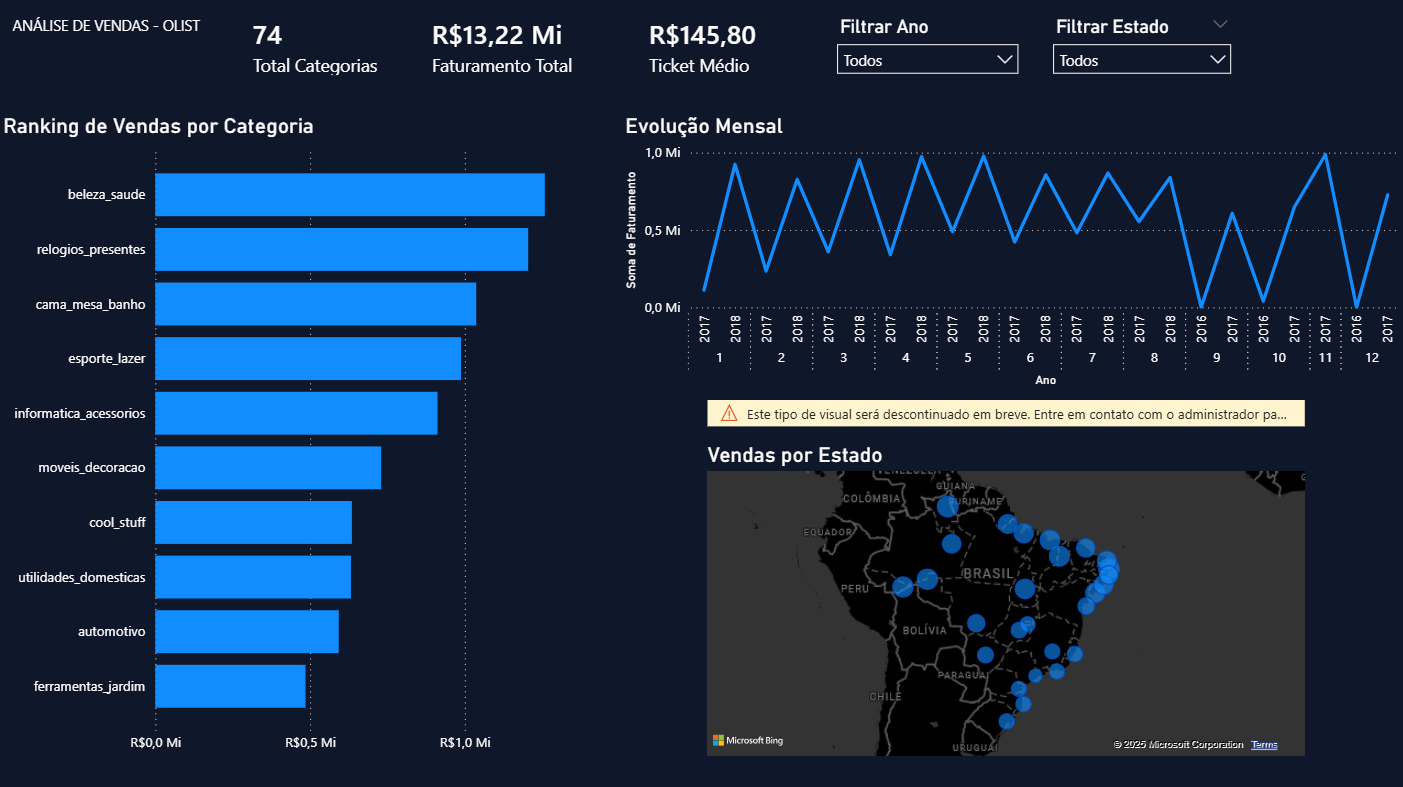

The dashboard page shown, as its layout file describes it:
{"tool":"powerbi","page":{"name":"Página 1","canvas":[1280,720],"ordinal":0},"visuals":[{"type":"clusteredBarChart","title":"Ranking de Vendas por Categoria ","fields":{"Category":["vw_Faturamento_Categoria.Categoria"],"Y":["Sum(vw_Faturamento_Categoria.Faturamento_Total)"]},"box":[0,105.4,565.9,590.2],"z":0},{"type":"lineChart","title":"Evolução Mensal","fields":{"Category":["Faturamento_Anual_Mensal.Mes","Faturamento_Anual_Mensal.Ano"],"Y":["Sum(Faturamento_Anual_Mensal.Faturamento)"]},"box":[565.9,105.4,714.1,253.7],"z":1000},{"type":"map","title":"Vendas por Estado","fields":{"Size":["Sum(vw_Media_Frete_Estado.Média)"],"Category":["vw_Media_Frete_Estado.Localizacao"]},"box":[640,366.4,552.7,329.1],"z":2000},{"type":"slicer","title":"Filtro por Estado","fields":{"Values":["vw_Media_Frete_Estado.customer_state"]},"box":[949.3,11.7,182.4,69.3],"z":3000},{"type":"slicer","fields":{"Values":["Faturamento_Anual_Mensal.Ano"]},"box":[753.2,11.7,185.4,84.9],"z":4000},{"type":"cardVisual","fields":{"Data":["_Medidas.Faturamento Total"]},"box":[365.9,0,219.5,88.8],"z":5000},{"type":"cardVisual","fields":{"Data":["_Medidas.Ticket_Medio"]},"box":[562.9,0,190.2,88.8],"z":6000},{"type":"cardVisual","fields":{"Data":["_Medidas.TotalCategorias"]},"box":[202.9,0,173.7,88.8],"z":7000},{"type":"textbox","box":[7.8,11.7,233.2,34.1],"z":8000}]}

Visuals, with their boxes in screenshot pixels (x1, y1, x2, y2), scaled from the page's 1280x720 canvas onto the 1403x787 screenshot:
"Ranking de Vendas por Categoria " clusteredBarChart: x1=0, y1=115, x2=620, y2=760
"Evolução Mensal" lineChart: x1=620, y1=115, x2=1402, y2=393
"Vendas por Estado" map: x1=702, y1=400, x2=1307, y2=760
"Filtro por Estado" slicer: x1=1041, y1=13, x2=1240, y2=89
slicer - Faturamento_Anual_Mensal.Ano: x1=826, y1=13, x2=1029, y2=106
cardVisual - _Medidas.Faturamento Total: x1=401, y1=0, x2=642, y2=97
cardVisual - _Medidas.Ticket_Medio: x1=617, y1=0, x2=825, y2=97
cardVisual - _Medidas.TotalCategorias: x1=222, y1=0, x2=413, y2=97
textbox: x1=9, y1=13, x2=264, y2=50
